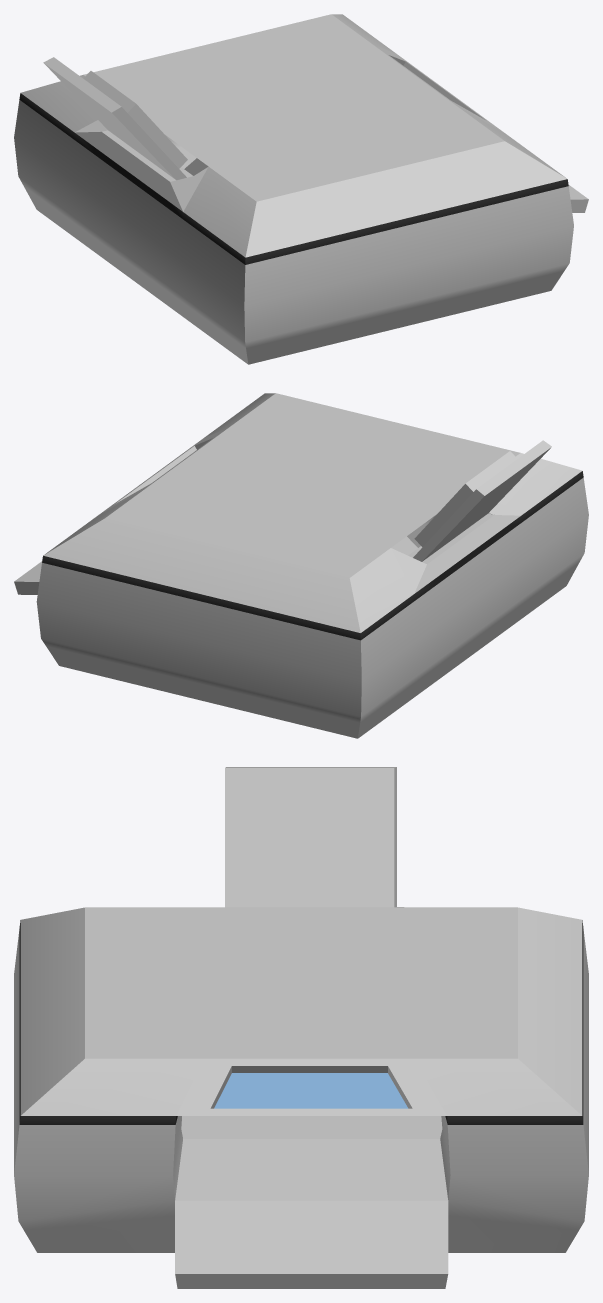
The model's file is Printer.fbx.
3 views of the same model, one above another, from view 1: azimuth 30°, elevation 25°; view 2: azimuth 150°, elevation 25°; view 3: azimuth 270°, elevation 25° (orthographic). The views are drawn at different scales.
Parts seen in each view (by area): view 1: pCube1; view 2: pCube1; view 3: pCube1.
Part boxes in pixels (<box>): pCube1: <box>14,14,588,364</box>; pCube1: <box>14,393,588,738</box>; pCube1: <box>14,767,588,1288</box>.
Size of the model in its own units: 9.97 by 4.49 by 8.71.
